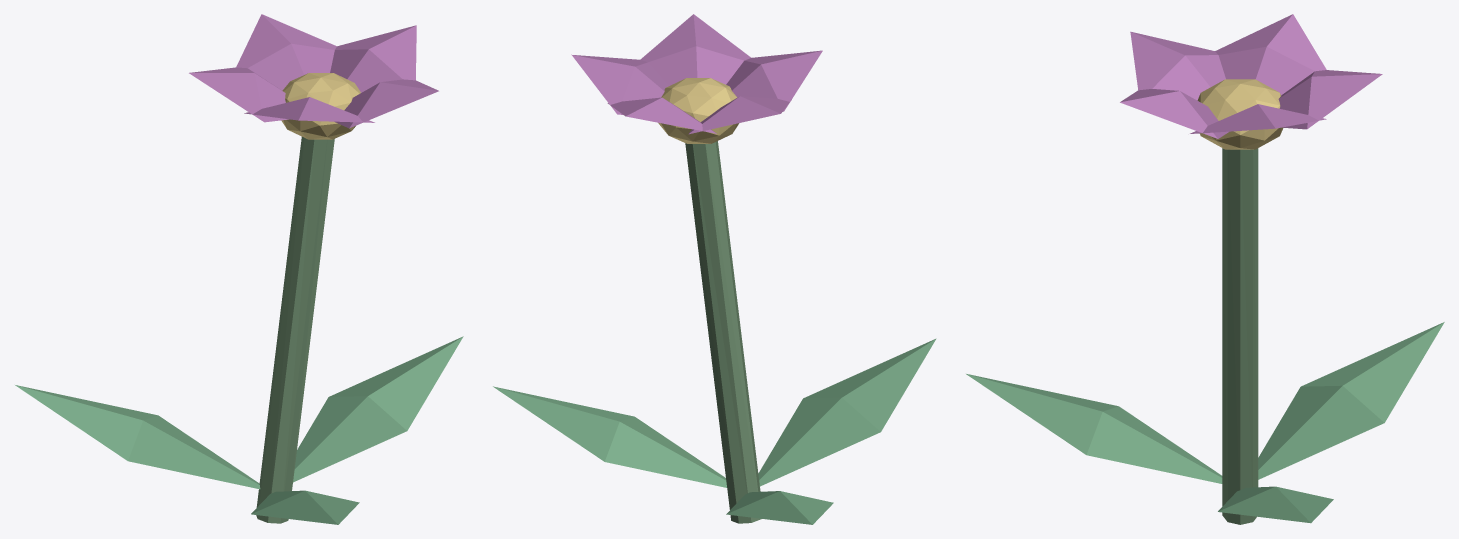
The model's file is orchid_purple.glb.
The picture shows the model from 3 angles, left to right: view 1: azimuth 30°, elevation 25°; view 2: azimuth 150°, elevation 25°; view 3: azimuth 270°, elevation 25°; orthographic projection. The views are drawn at different scales.
Parts seen in each view (by area): view 1: orchid_stem, orchid_leaf_0, orchid_leaf_1, orchid_petal_1, orchid_petal_0, orchid_center, orchid_petal_2, orchid_leaf_2, orchid_petal_4, orchid_petal_3; view 2: orchid_stem, orchid_leaf_2, orchid_leaf_0, orchid_petal_4, orchid_petal_3, orchid_petal_0, orchid_center, orchid_leaf_1, orchid_petal_2, orchid_petal_1; view 3: orchid_stem, orchid_leaf_1, orchid_leaf_2, orchid_petal_2, orchid_petal_3, orchid_center, orchid_petal_1, orchid_leaf_0, orchid_petal_4, orchid_petal_0.
Boxes of the visible parts, left/top/right/bottom form: orchid_stem: left=256, top=137, right=334, bottom=523; orchid_leaf_0: left=293, top=336, right=463, bottom=482; orchid_leaf_1: left=15, top=385, right=260, bottom=489; orchid_petal_1: left=236, top=14, right=336, bottom=90; orchid_petal_0: left=330, top=25, right=416, bottom=92; orchid_center: left=281, top=73, right=360, bottom=139; orchid_petal_2: left=189, top=67, right=288, bottom=122; orchid_leaf_2: left=251, top=490, right=359, bottom=524; orchid_petal_4: left=334, top=79, right=438, bottom=128; orchid_petal_3: left=244, top=97, right=374, bottom=122; orchid_stem: left=685, top=141, right=761, bottom=523; orchid_leaf_2: left=758, top=338, right=936, bottom=486; orchid_leaf_0: left=493, top=386, right=726, bottom=487; orchid_petal_4: left=640, top=14, right=751, bottom=85; orchid_petal_3: left=726, top=50, right=822, bottom=111; orchid_petal_0: left=571, top=54, right=668, bottom=114; orchid_center: left=658, top=78, right=739, bottom=143; orchid_leaf_1: left=726, top=491, right=833, bottom=524; orchid_petal_2: left=688, top=96, right=791, bottom=134; orchid_petal_1: left=607, top=97, right=716, bottom=133; orchid_stem: left=1222, top=148, right=1258, bottom=524; orchid_leaf_1: left=1258, top=322, right=1444, bottom=479; orchid_leaf_2: left=966, top=374, right=1222, bottom=483; orchid_petal_2: left=1215, top=14, right=1326, bottom=95; orchid_petal_3: left=1130, top=31, right=1225, bottom=100; orchid_center: left=1197, top=79, right=1283, bottom=149; orchid_petal_1: left=1278, top=70, right=1382, bottom=129; orchid_leaf_0: left=1218, top=486, right=1333, bottom=523; orchid_petal_4: left=1120, top=89, right=1228, bottom=138; orchid_petal_0: left=1190, top=104, right=1326, bottom=133.
Size of the model in its own units: 0.6337 by 0.6931 by 0.6377.
